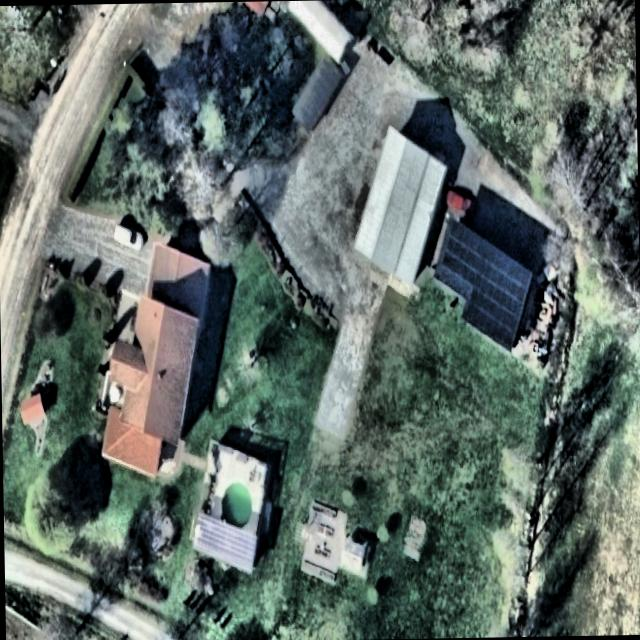roof_pv: (464, 238, 532, 347), (442, 221, 479, 281)
